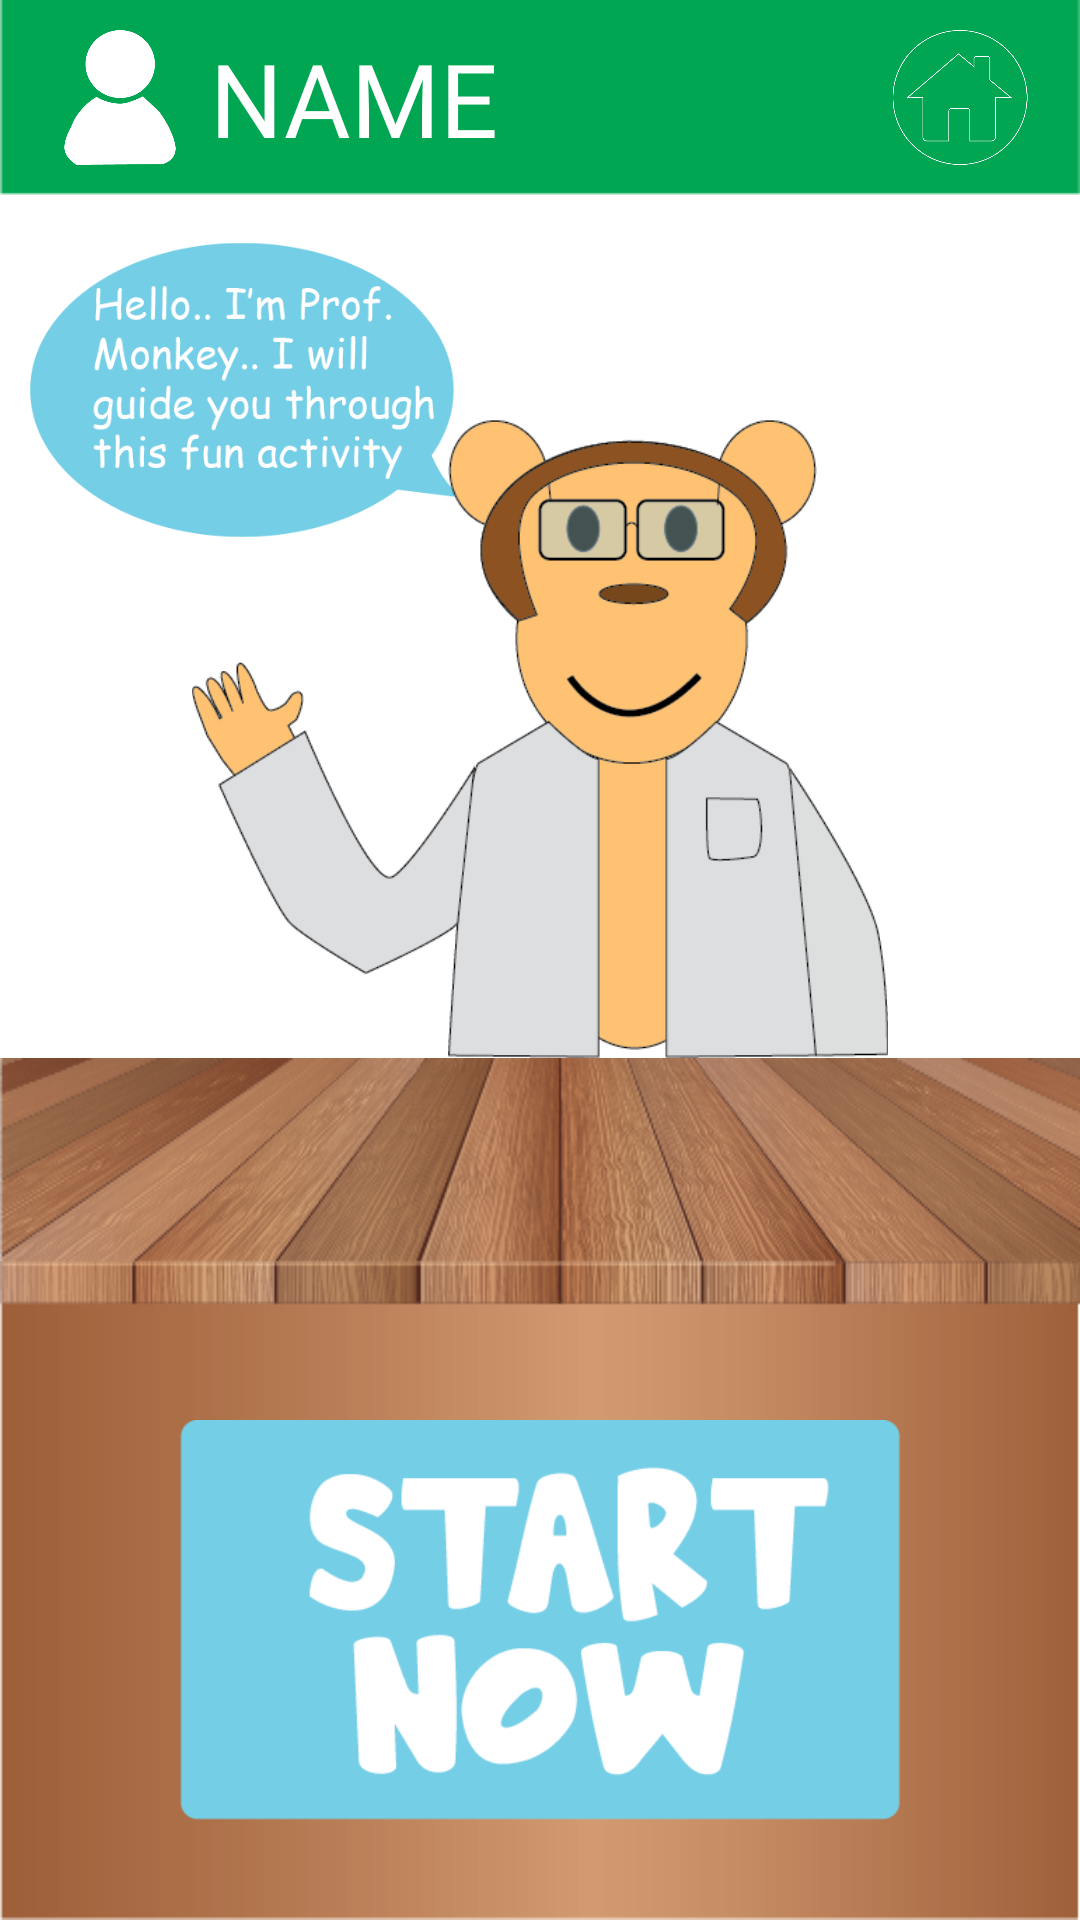

Screen size 1080*1920. Icon name, then its center in pixels as point (x, y):
homepage: point (960, 97)
